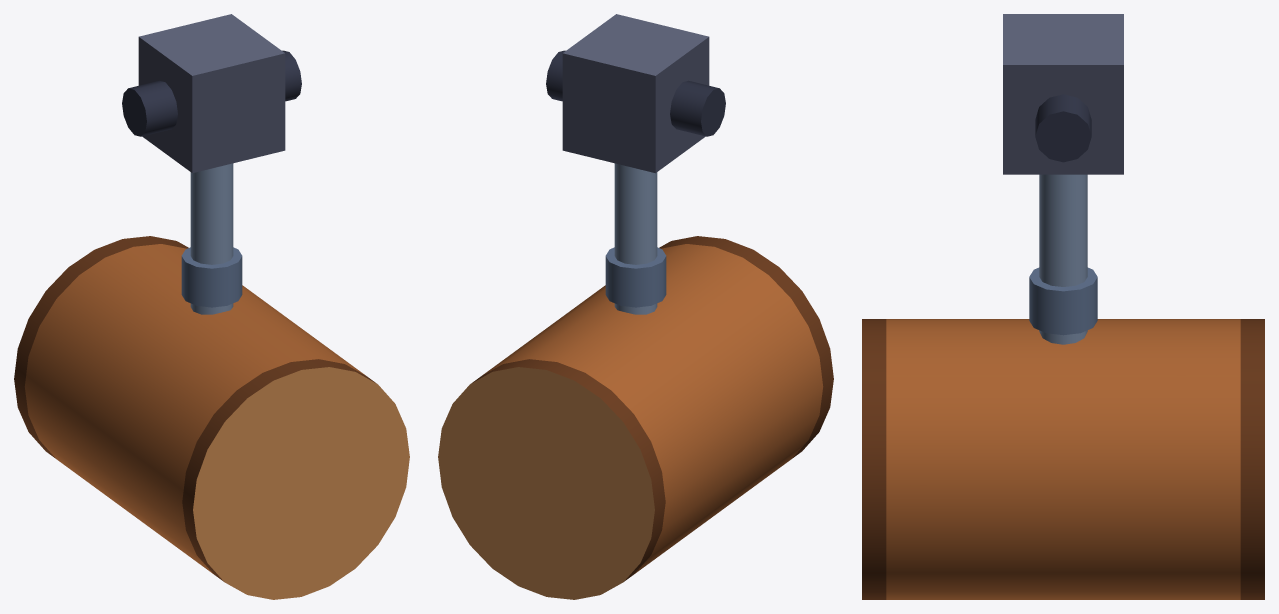
File: hammer.glb
The picture shows the model from 3 angles, left to right: view 1: azimuth 30°, elevation 25°; view 2: azimuth 150°, elevation 25°; view 3: azimuth 270°, elevation 25°; orthographic projection. The views are drawn at different scales.
Visible parts, largest first — view 1: Head, Pivot, Arm; view 2: Head, Pivot, Arm; view 3: Head, Pivot, Arm.
Boxes of the visible parts, x1,y1,x2,y2 form: Head: (14, 236, 409, 599); Pivot: (122, 14, 301, 173); Arm: (181, 163, 242, 314); Head: (438, 236, 833, 599); Pivot: (546, 14, 725, 173); Arm: (605, 163, 666, 314); Head: (862, 319, 1264, 599); Pivot: (1003, 14, 1123, 174); Arm: (1029, 174, 1097, 344).
Bounding box in the file's own units: 0.7 × 1.5 × 1.
